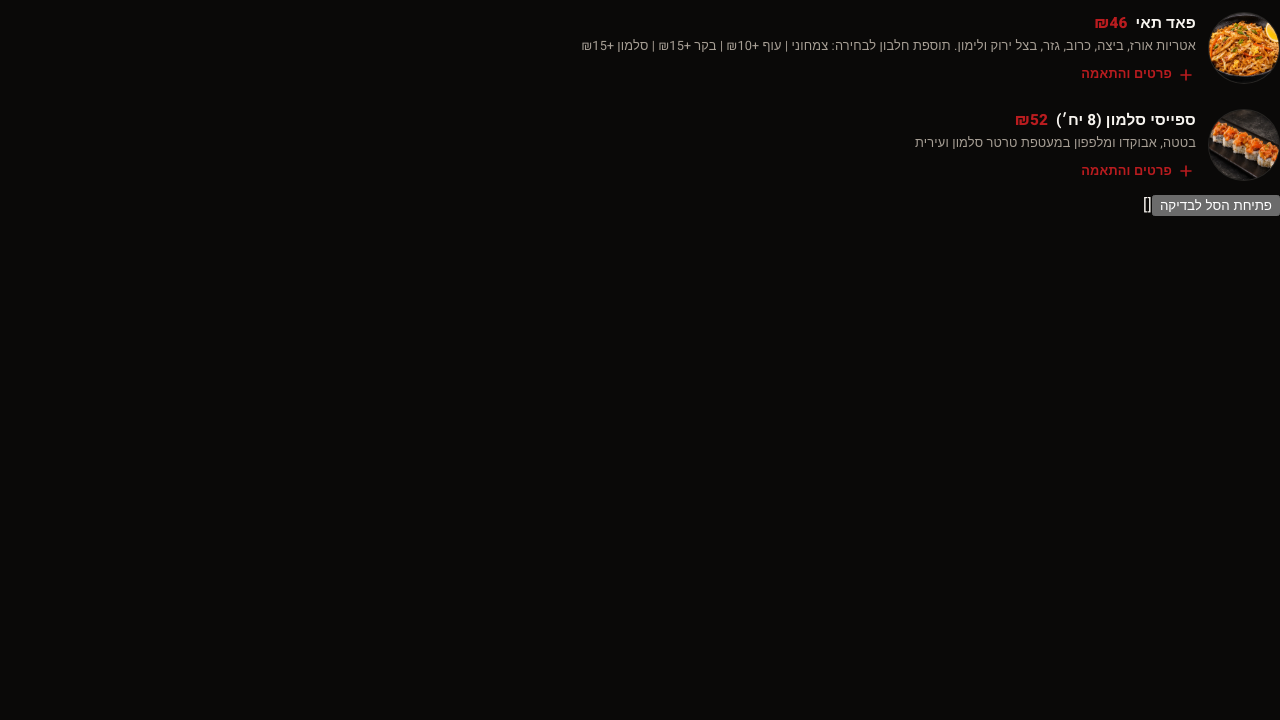
Test case: dish dialog and checkout UI › opens from the image, name and card; supports keyboard open/Escape and restores focus
Later steps or results of the test are not shown.
Step 1. Click the picture named "פאד תאי" → (1244, 48), box [1209,13,1279,83]
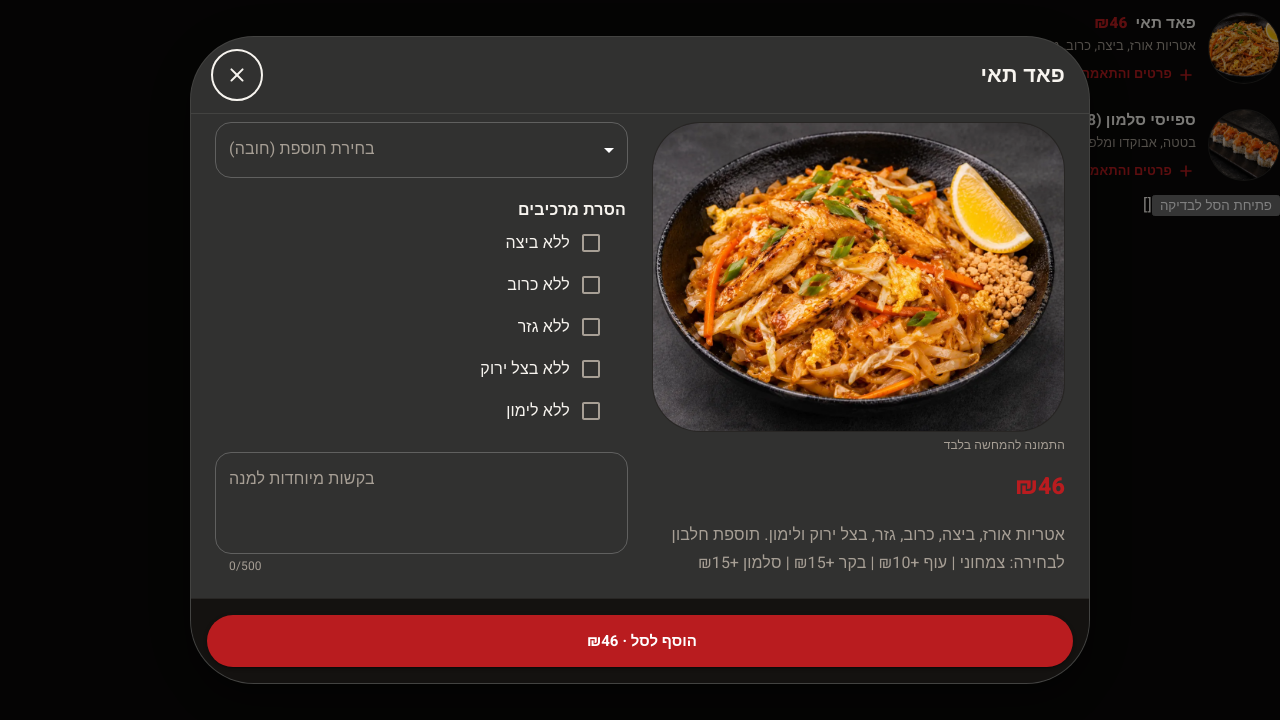
Step 2. Click the button named "סגירת פרטי מנה" → (237, 75), box [215,53,259,97]
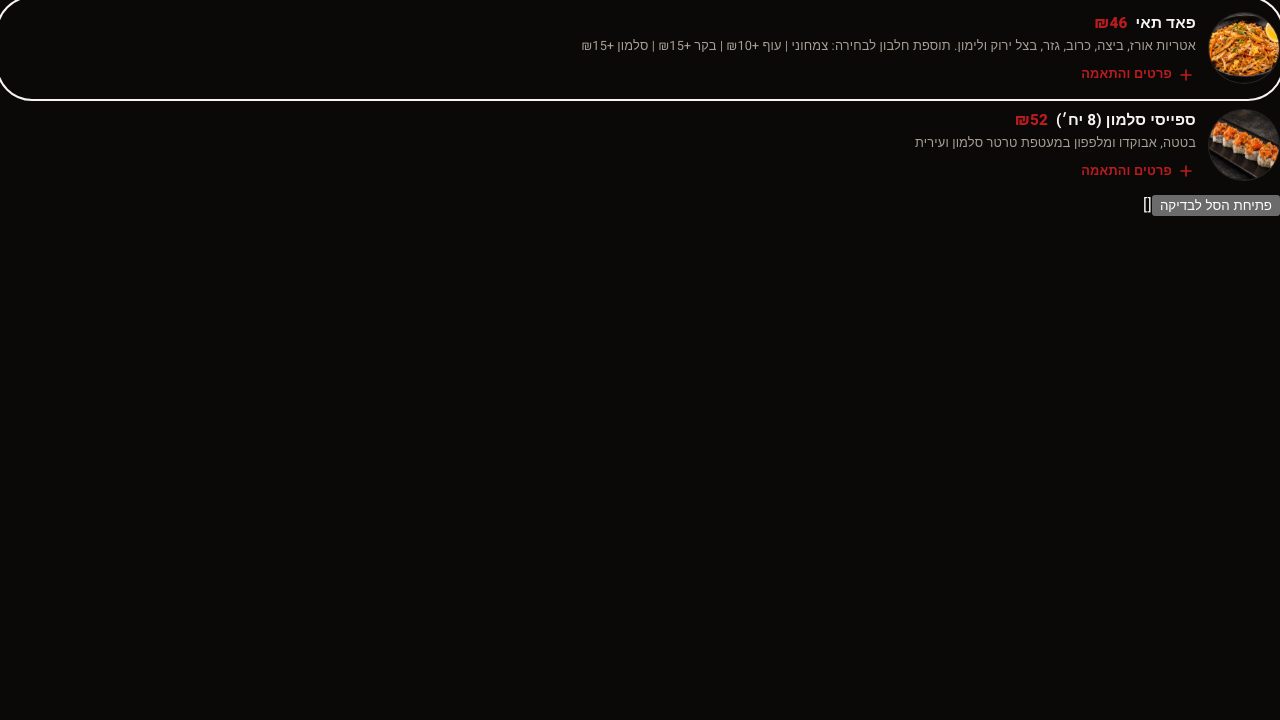
Step 3. Click the heading "פאד תאי" → (1166, 24), box [1136,12,1196,35]
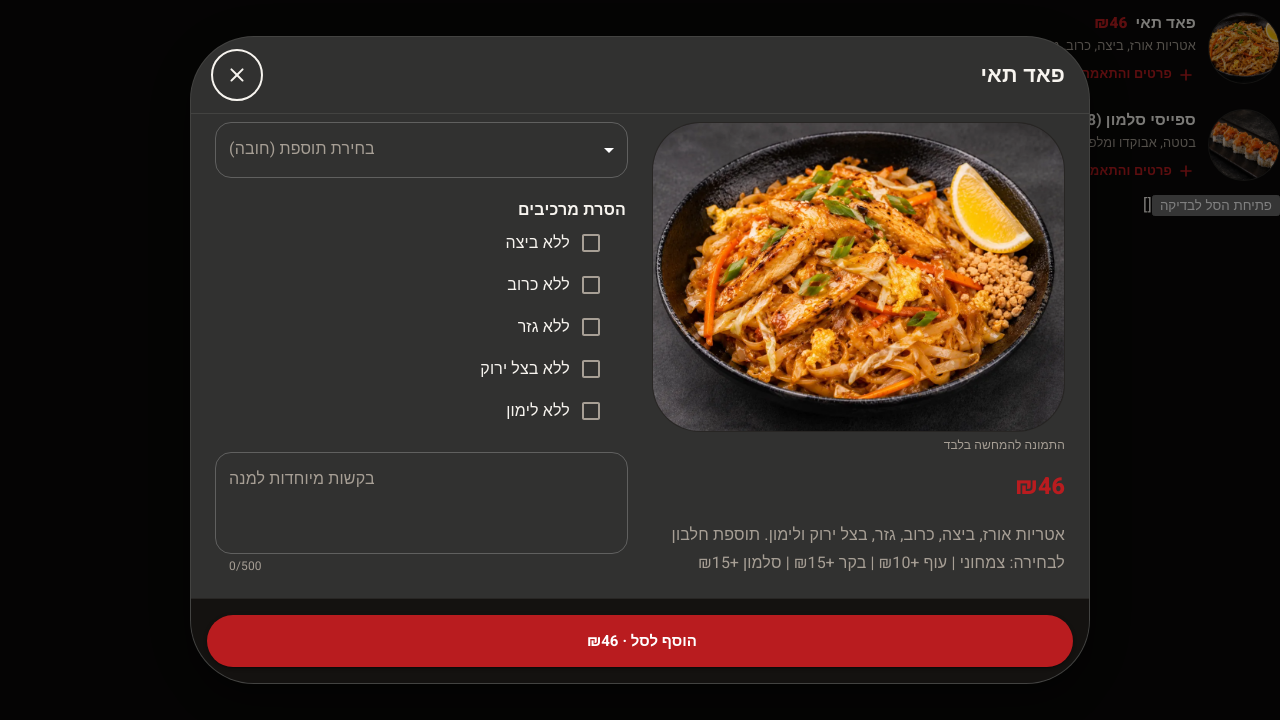
Check: the dialog "פאד תאי" is shown
Step 4. Press Escape
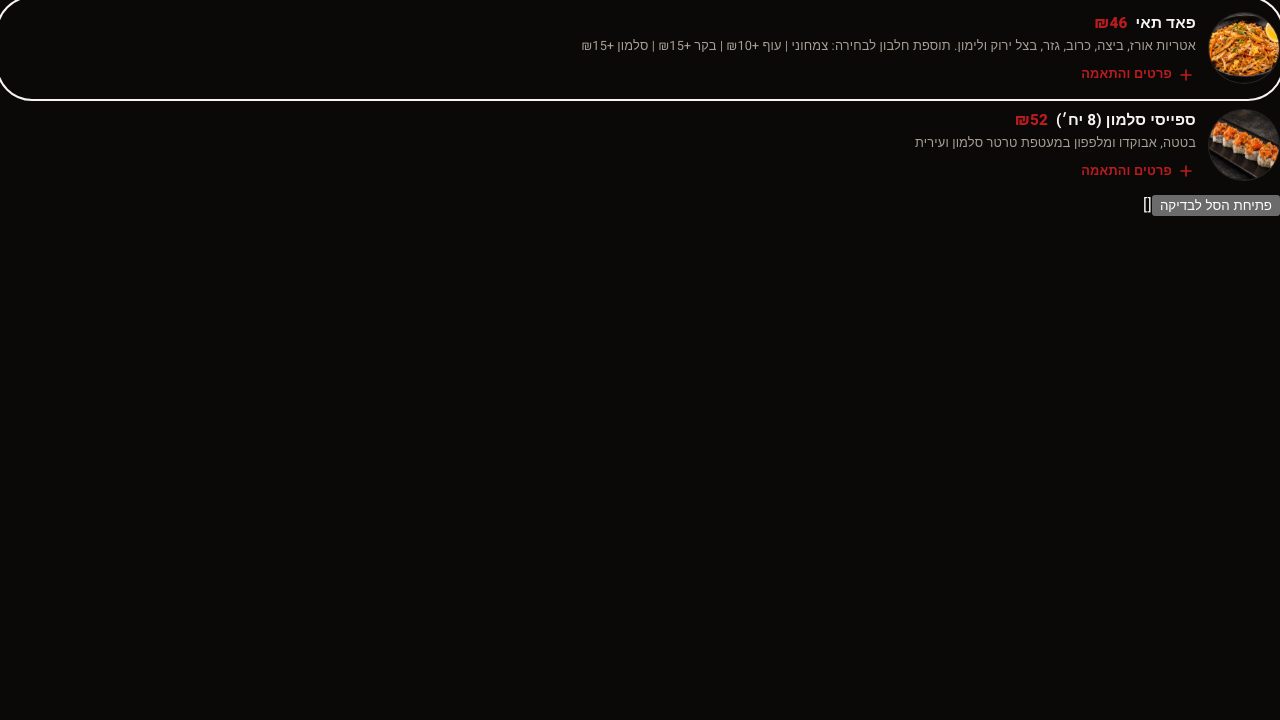
Step 5. Press Enter
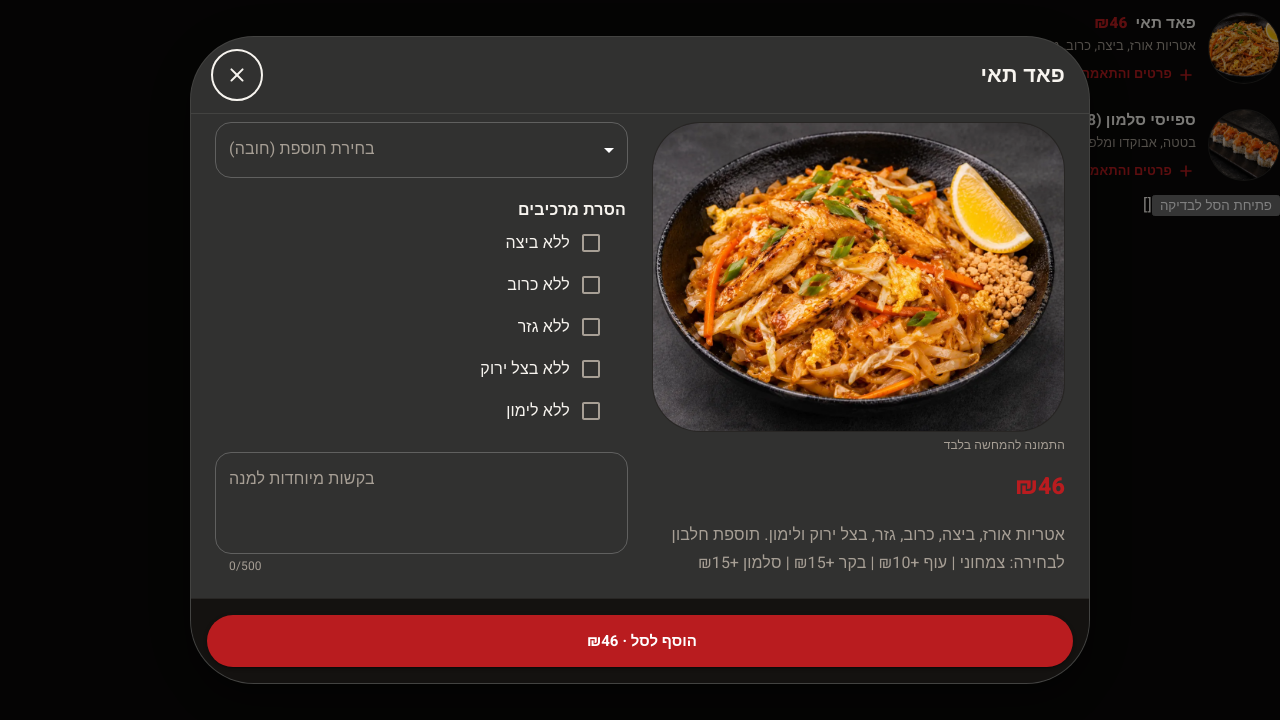
Check: the dialog "פאד תאי" is shown
